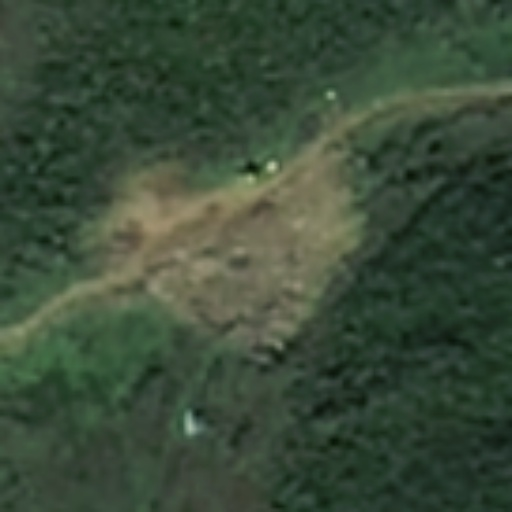landslide: (142, 158, 347, 334)
